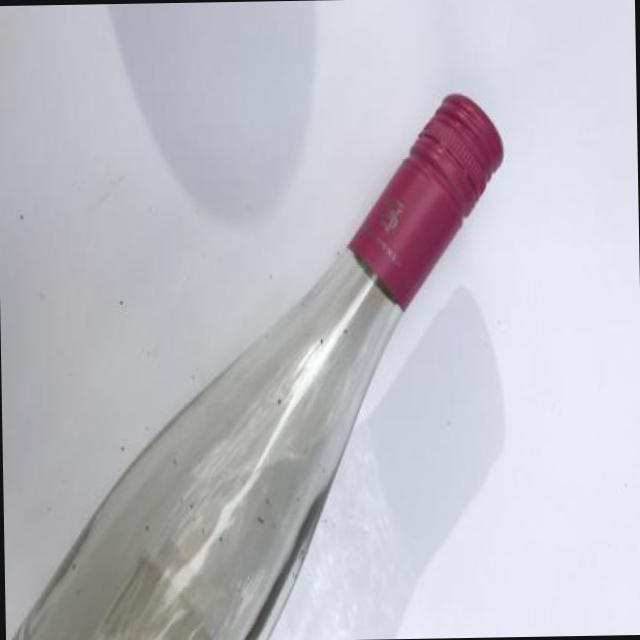chai_thuy_tinh: (12, 94, 502, 640)
